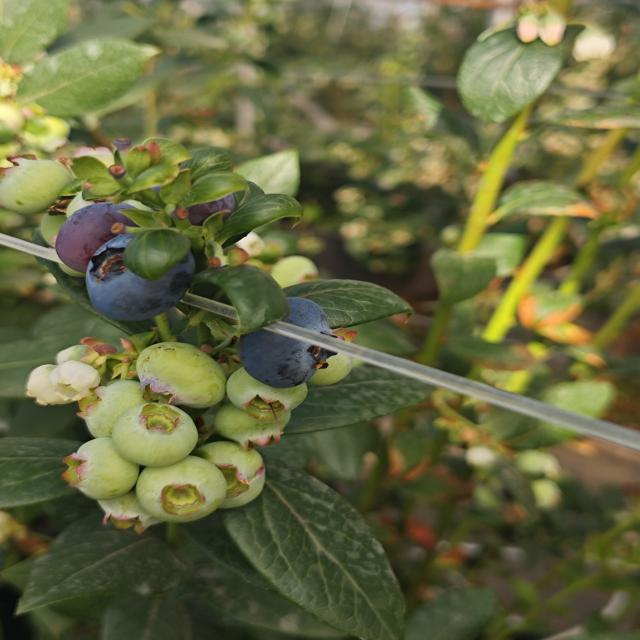ripe: (79, 224, 202, 326), (54, 196, 168, 277), (228, 300, 334, 384), (146, 168, 246, 226)
